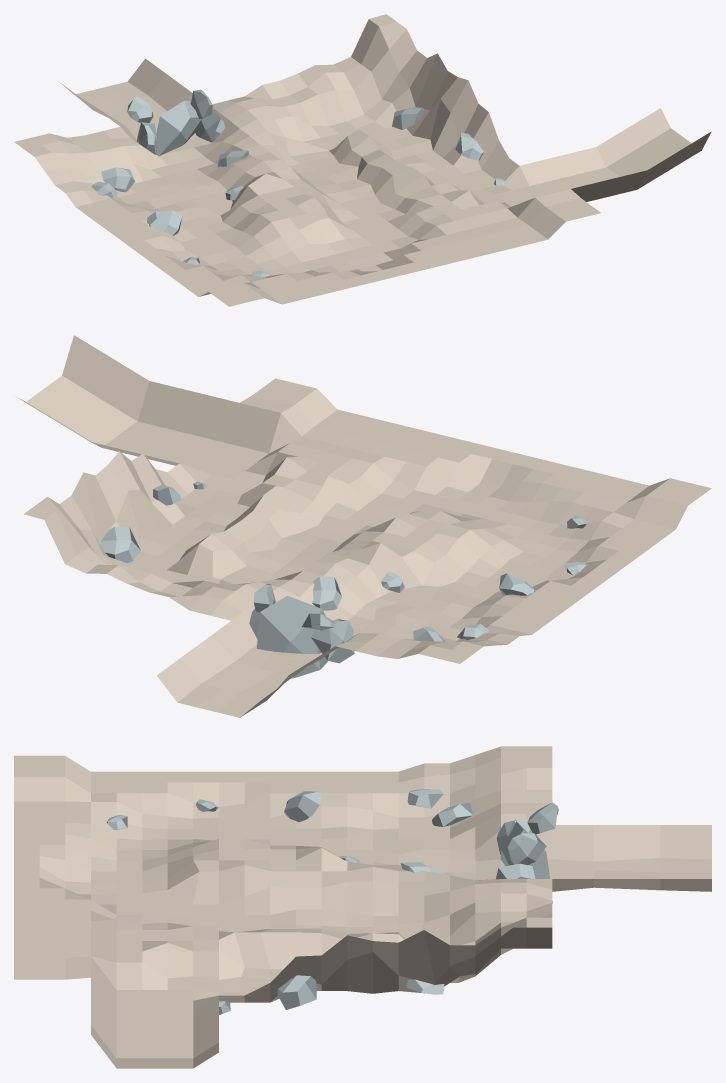
File: 042720map1shadowRecievers.gltf
3 views of the same model, one above another, from view 1: azimuth 30°, elevation 25°; view 2: azimuth 150°, elevation 25°; view 3: azimuth 270°, elevation 25° (orthographic). The views are drawn at different scales.
Parts seen in each view (by area): view 1: Plane, Cube.027, Cube.019, Cube.015, Cube.018, Cube.023, Cube.024, Cube.030, Cube.029, Cube.028; view 2: Plane, Cube.027, Cube.029, Cube.023, Cube.017; view 3: Plane, Cube.024, Cube.028, Cube.019, Cube.027, Cube.030, Cube.015, Cube.014, Cube.018.
Part boxes in pixels (x1=…): Plane: x1=14, y1=14, x2=711, y2=306; Cube.027: x1=156, y1=100, x2=201, y2=156; Cube.019: x1=147, y1=210, x2=182, y2=235; Cube.015: x1=101, y1=167, x2=135, y2=192; Cube.018: x1=195, y1=110, x2=225, y2=141; Cube.023: x1=392, y1=107, x2=424, y2=129; Cube.024: x1=455, y1=132, x2=483, y2=160; Cube.030: x1=127, y1=96, x2=153, y2=122; Cube.029: x1=137, y1=122, x2=157, y2=154; Cube.028: x1=190, y1=89, x2=212, y2=118; Plane: x1=17, y1=335, x2=711, y2=717; Cube.027: x1=256, y1=596, x2=327, y2=678; Cube.029: x1=311, y1=619, x2=354, y2=663; Cube.023: x1=100, y1=526, x2=140, y2=563; Cube.017: x1=311, y1=576, x2=341, y2=610; Plane: x1=14, y1=746, x2=711, y2=1068; Cube.024: x1=277, y1=975, x2=316, y2=1009; Cube.028: x1=507, y1=833, x2=546, y2=865; Cube.019: x1=284, y1=791, x2=321, y2=822; Cube.027: x1=500, y1=821, x2=552, y2=903; Cube.030: x1=527, y1=802, x2=558, y2=834; Cube.015: x1=432, y1=803, x2=472, y2=826; Cube.014: x1=407, y1=789, x2=443, y2=808; Cube.018: x1=496, y1=863, x2=535, y2=879.
Bounding box in the file's own units: 82.74 × 13.69 × 77.79.
